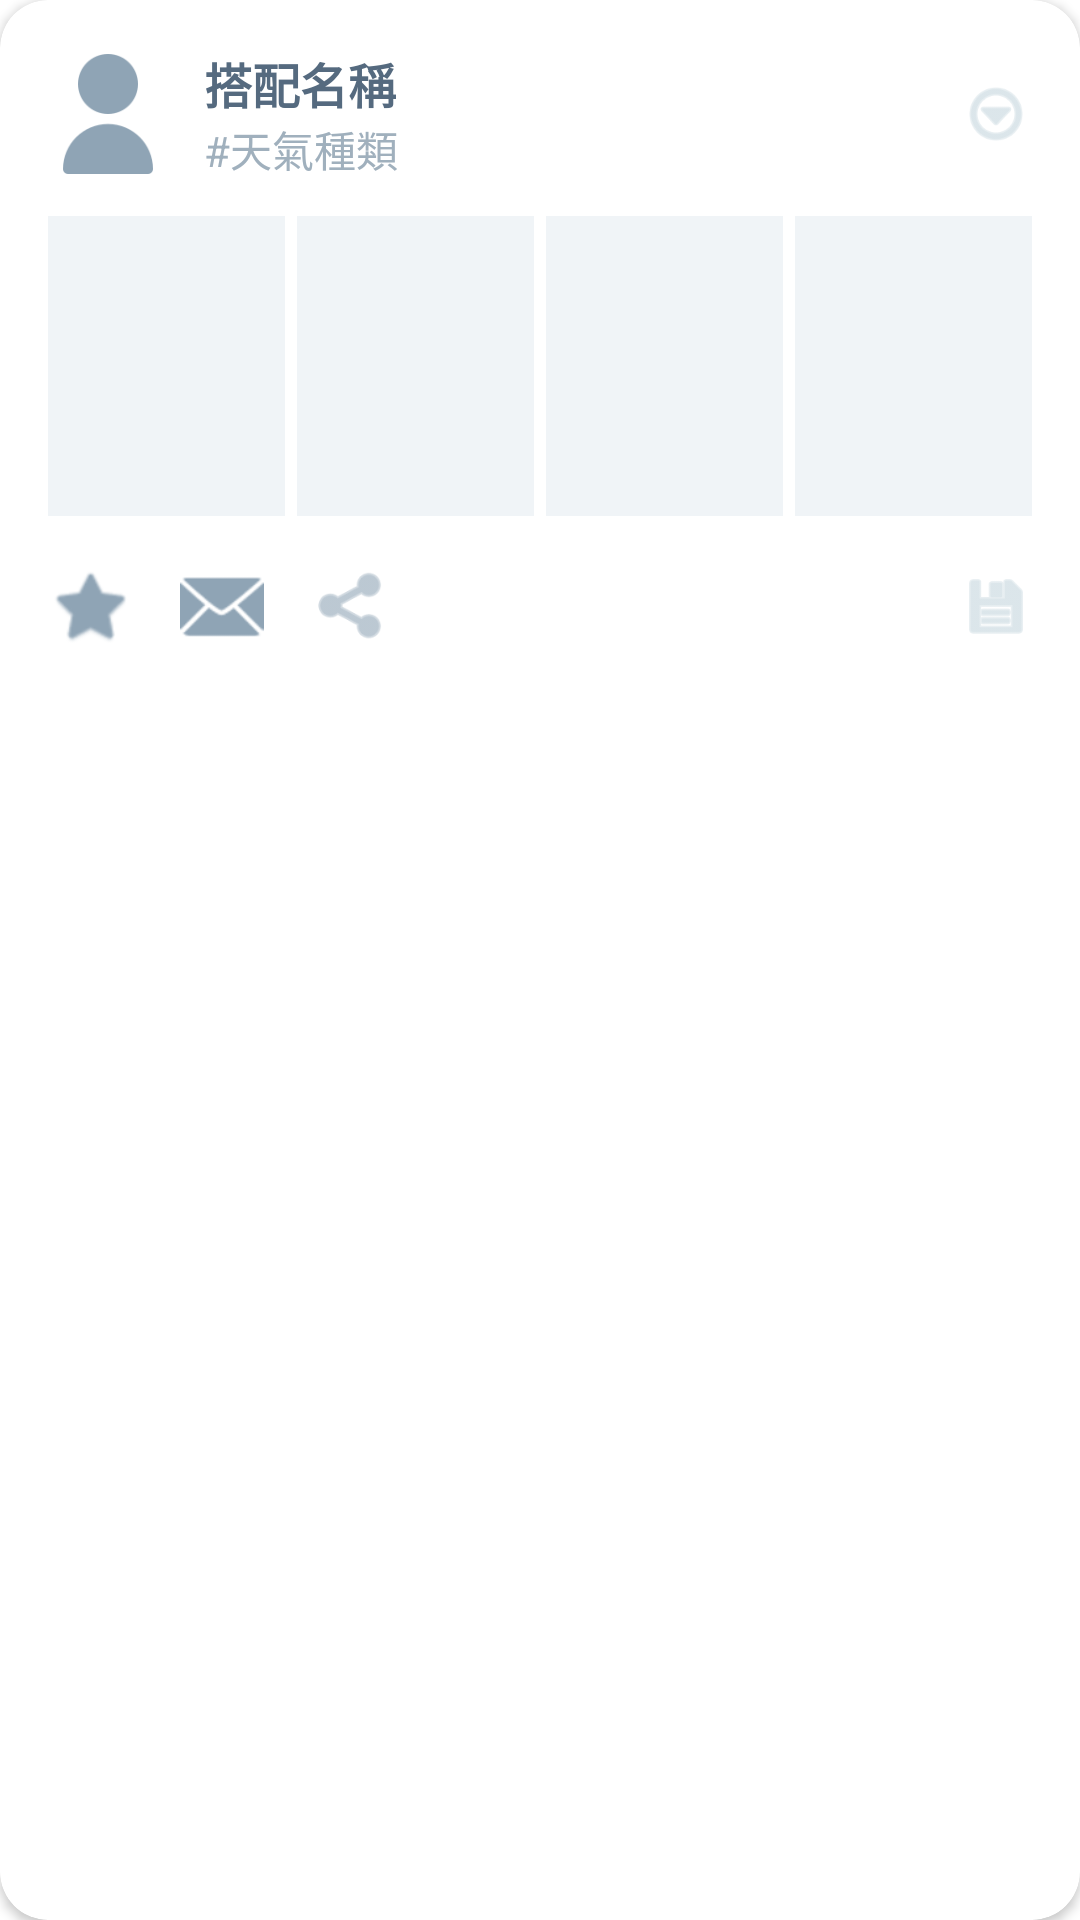

Icon click points for this 1080 x 1920 phone screenshot, format point (x, y):
email: point (222, 606)
more: point (996, 114)
save: point (996, 606)
share: point (349, 605)
star off: point (90, 606)
user: point (108, 114)
